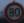Speed Limit -80-: (0, 0, 23, 22)
